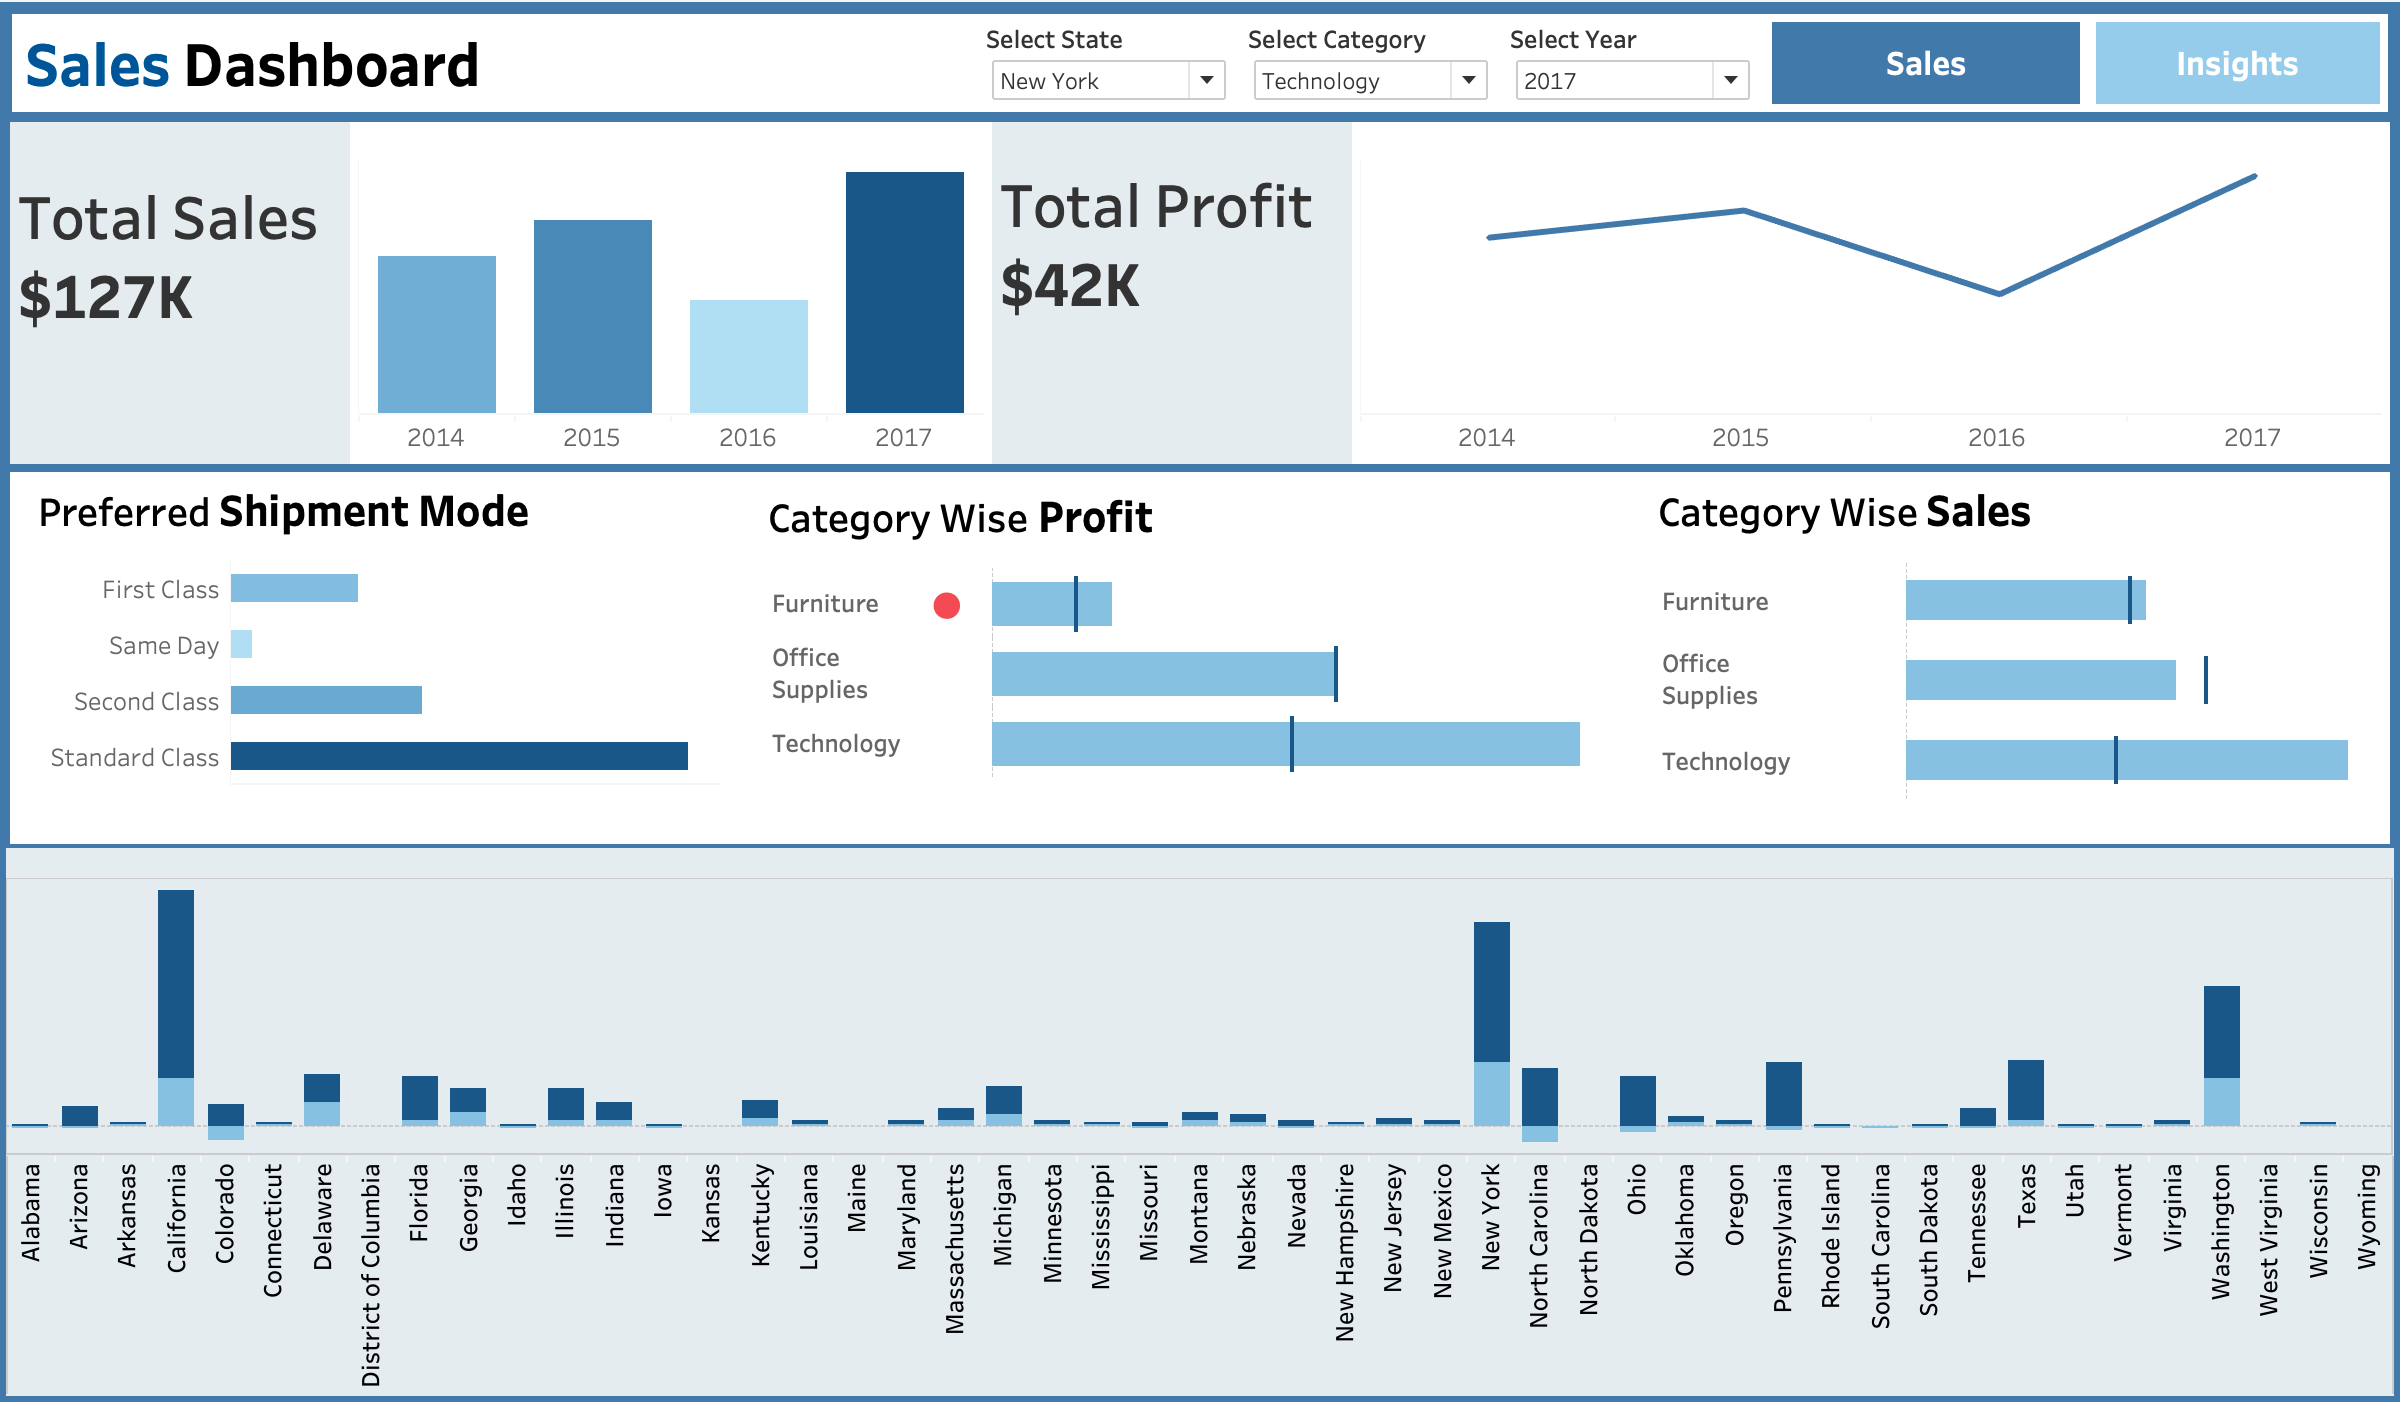

This screenshot's page, from the dashboard's own definition file:
{"tool":"tableau","page":{"name":"InsightsDashboard","canvas":[1000,1000],"units":"permille","ordinal":0},"visuals":[{"type":"text","box":[5,8.6,402.5,70]},{"type":"parameter","param":"[Parameters].[Parameter 2]","box":[407.5,8.6,109.2,70]},{"type":"parameter","param":"[Parameters].[Parameter 3]","box":[516.7,8.6,109.2,70]},{"type":"parameter","param":"[Parameters].[Parameter 1]","box":[625.8,8.6,109.2,70]},{"type":"dashboard-object","box":[735,8.6,135,70]},{"type":"dashboard-object","box":[870,8.6,125,70]},{"type":"worksheet","title":"CatSalesYKPI","mark":"Automatic","box":[4.2,85.7,141.7,244.3]},{"type":"worksheet","title":"Category/Sales/Years","mark":"Bar","rows":["Calculation_4880283555342639147"],"cols":["Order Date"],"box":[145.8,85.7,267.5,244.3]},{"type":"worksheet","title":"CatProfitYKPI","mark":"Automatic","box":[413.3,85.7,150,244.3]},{"type":"worksheet","title":"Cat/Profit/Years","mark":"Line","rows":["Calculation_4880283555347091503"],"cols":["Order Date"],"box":[563.3,85.7,432.5,244.3]},{"type":"worksheet","title":"ShipMode","mark":"Bar","rows":["Ship Mode"],"cols":["Calculation_4880283555332177961"],"box":[4.2,335.7,304.2,265.7]},{"type":"worksheet","title":"Cat/Profit","mark":"Bar","rows":["Category","Calculation_4880283555338637354"],"cols":["Calculation_4880283555354988597","Calculation_4880283555355041846"],"box":[308.3,335.7,370.8,265.7]},{"type":"worksheet","title":"Cat/Sales","mark":"Bar","rows":["Category","Calculation_4880283554874867742"],"cols":["Calculation_4880283555354083379","Calculation_4880283555354398772"],"box":[679.2,335.7,316.7,265.7]},{"type":"worksheet","title":"StateSalesProfit","mark":"Bar","rows":["Calculation_4880283555349524529","Calculation_4880283555349643314"],"cols":["State"],"box":[2.5,604.3,995,391.4]}]}

Visuals, with their boxes on the dashboard's canvas, which has no fixed pixel size, in thousandths of its width and height (x1, y1, x2, y2). These are canvas units, not pixel positions in the 2400x1402 screenshot, which may show the page scaled, cropped or inside an application window:
text: pyautogui.locateOnScreen(5, 9, 408, 79)
parameter: pyautogui.locateOnScreen(408, 9, 517, 79)
parameter: pyautogui.locateOnScreen(517, 9, 626, 79)
parameter: pyautogui.locateOnScreen(626, 9, 735, 79)
dashboard-object: pyautogui.locateOnScreen(735, 9, 870, 79)
dashboard-object: pyautogui.locateOnScreen(870, 9, 995, 79)
"CatSalesYKPI" worksheet: pyautogui.locateOnScreen(4, 86, 146, 330)
"Category/Sales/Years" worksheet (Bar marks): pyautogui.locateOnScreen(146, 86, 413, 330)
"CatProfitYKPI" worksheet: pyautogui.locateOnScreen(413, 86, 563, 330)
"Cat/Profit/Years" worksheet (Line marks): pyautogui.locateOnScreen(563, 86, 996, 330)
"ShipMode" worksheet (Bar marks): pyautogui.locateOnScreen(4, 336, 308, 601)
"Cat/Profit" worksheet (Bar marks): pyautogui.locateOnScreen(308, 336, 679, 601)
"Cat/Sales" worksheet (Bar marks): pyautogui.locateOnScreen(679, 336, 996, 601)
"StateSalesProfit" worksheet (Bar marks): pyautogui.locateOnScreen(2, 604, 998, 996)
